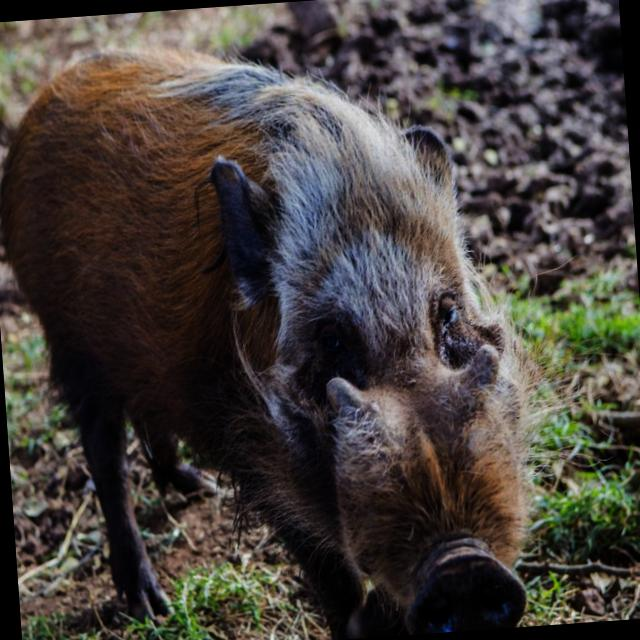pig: (2, 53, 529, 637)
